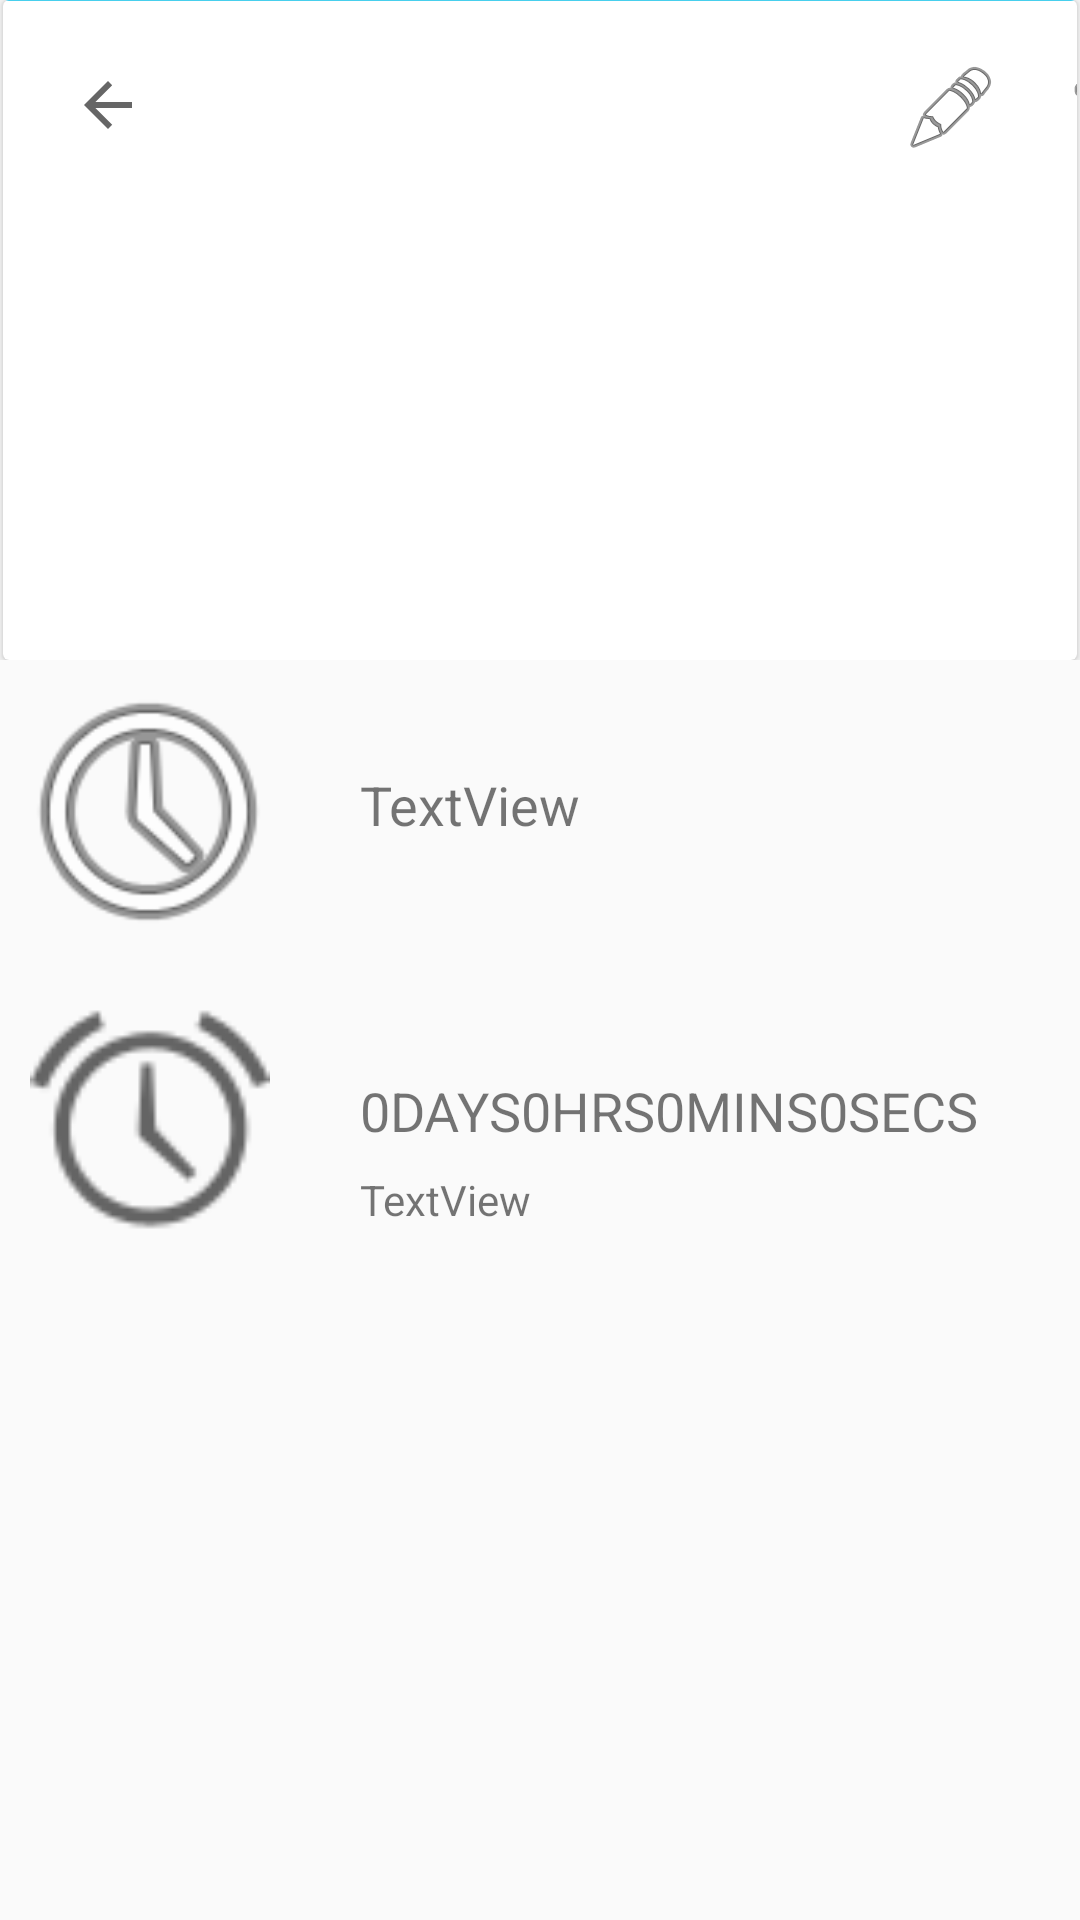

Icons on this 1080px x 1920px Android screen, each with its box as [x1, y1, x2, y2]:
recent history: [40, 703, 257, 920]
